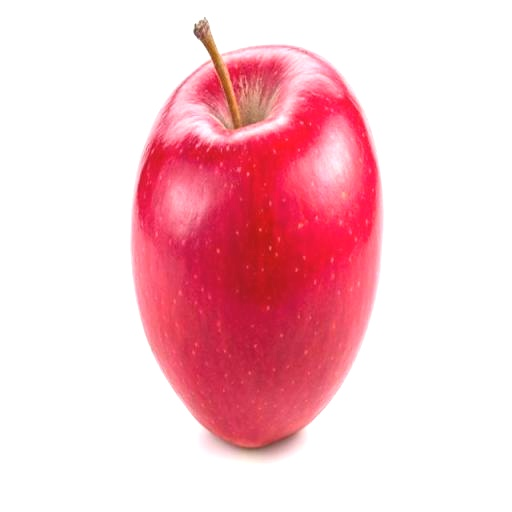fruit: (303, 117, 453, 462)
